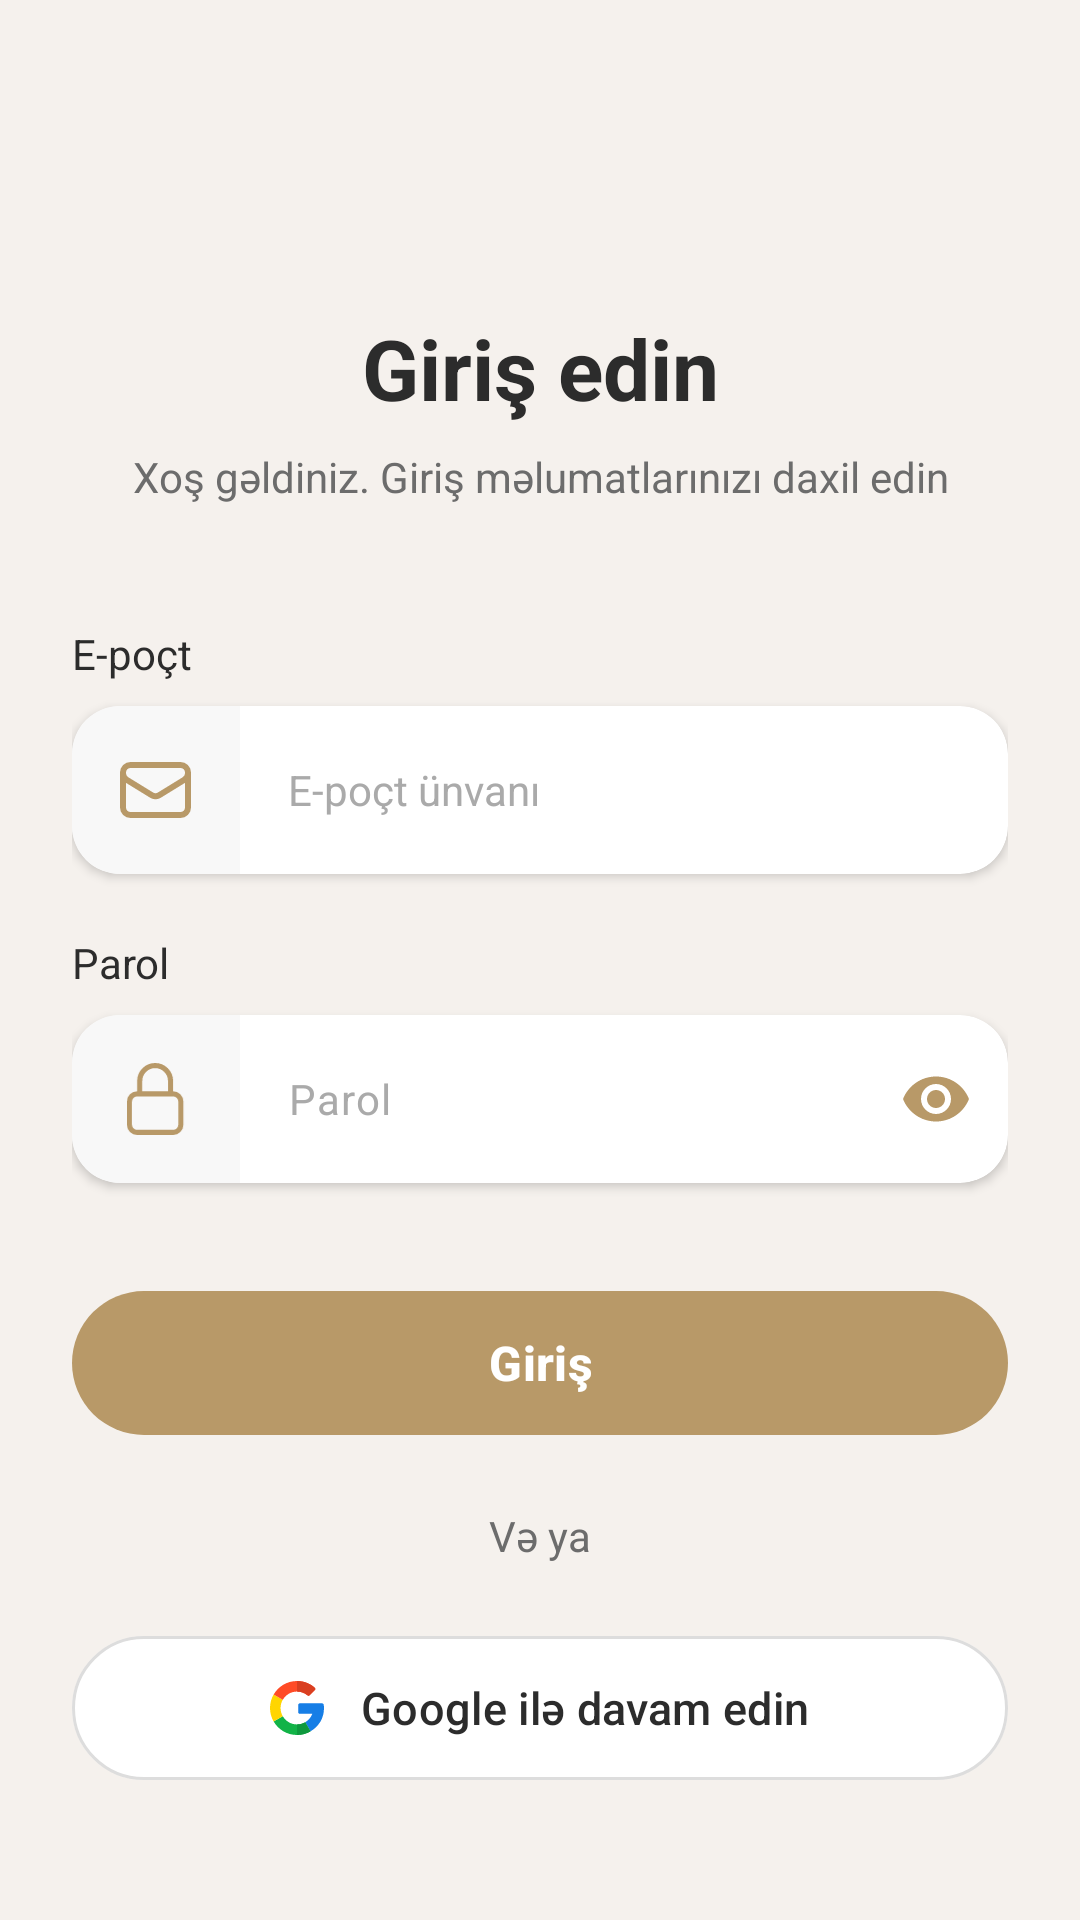

Named icons in this screenshot (1080×1920) and their bounding boxes, (x1, y1, x2, y2):
email: (120, 762, 191, 818)
lock: (127, 1063, 184, 1135)
